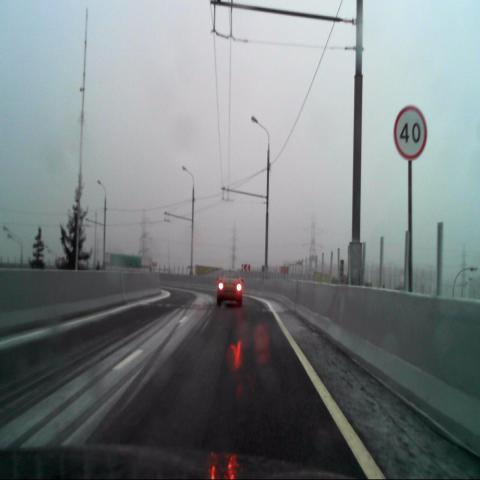3_24: (393, 104, 427, 160)
